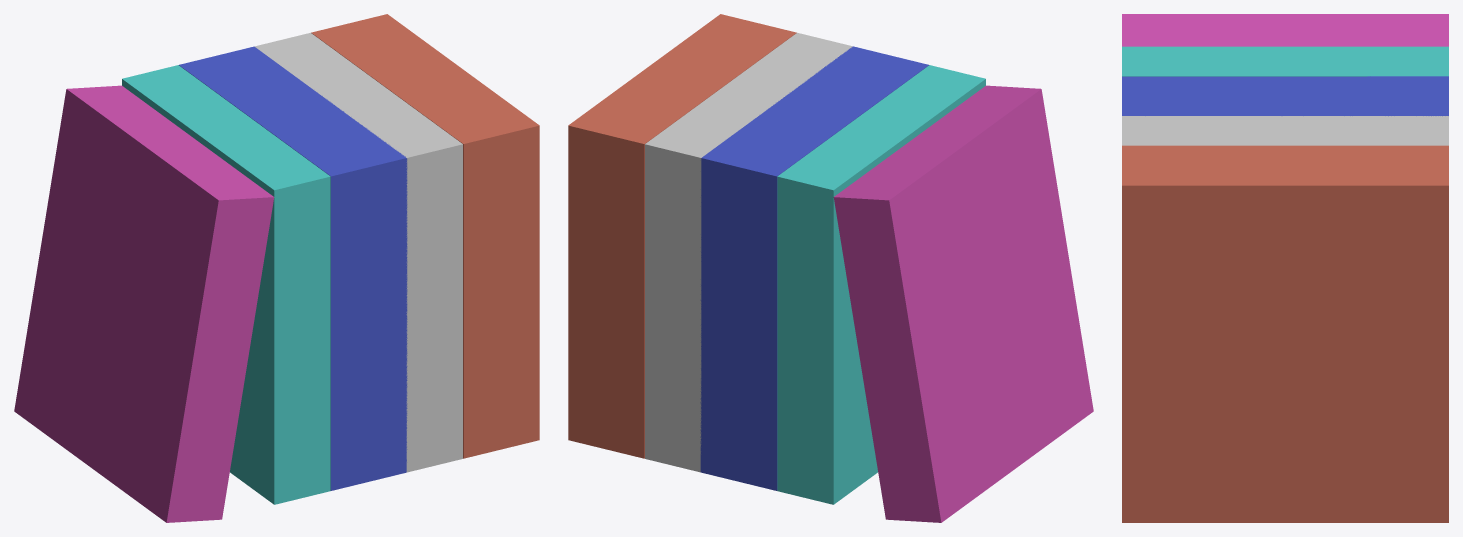
File: Books.fbx
3 renders of one model, left to right at view 1: azimuth 30°, elevation 25°; view 2: azimuth 150°, elevation 25°; view 3: azimuth 270°, elevation 25°, orthographic. The views are drawn at different scales.
Parts seen in each view (by area): view 1: book2; view 2: book2; view 3: book2.
Boxes of the visible parts, x1,y1,x2,y2 form: book2: (14,14,539,522); book2: (568,14,1093,522); book2: (1122,14,1448,522).
Bounding box in the file's own units: 77.4 × 63.43 × 54.74.
